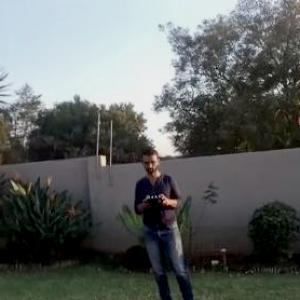follow: (126, 141, 205, 299)
